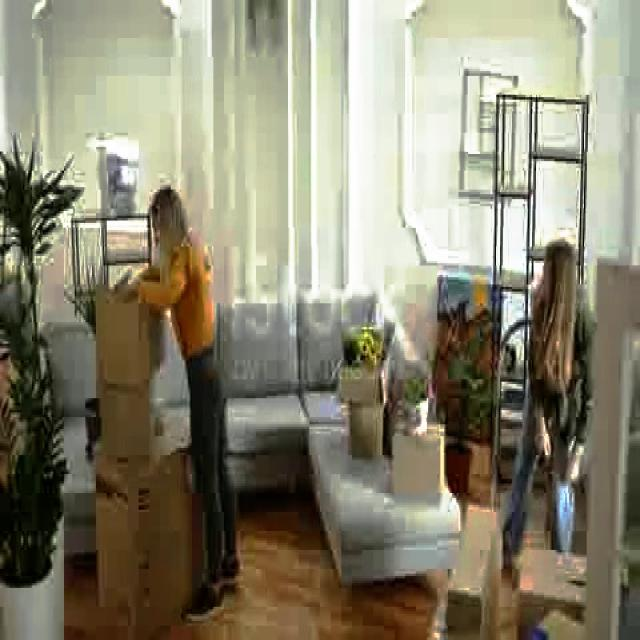Box: (96, 465, 184, 635), (444, 507, 499, 640), (90, 299, 158, 377), (96, 384, 156, 457), (388, 422, 445, 498), (524, 540, 581, 616), (342, 377, 382, 450)
